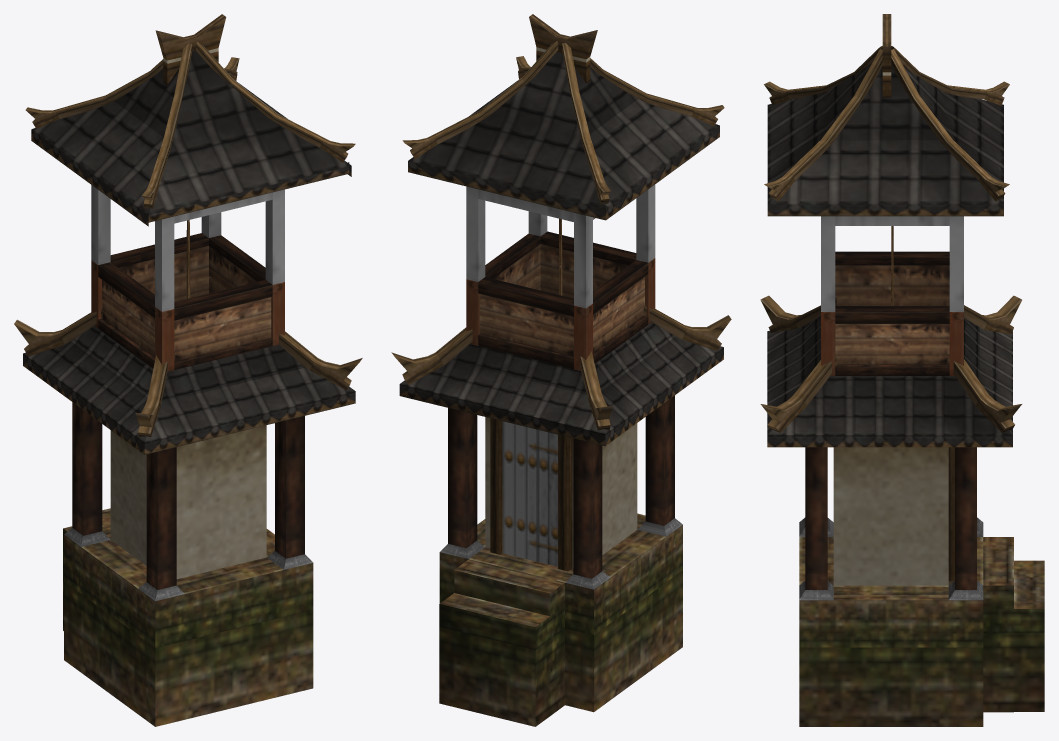
File: s_han_tower_small.glb
The picture shows the model from 3 angles, left to right: view 1: azimuth 30°, elevation 25°; view 2: azimuth 150°, elevation 25°; view 3: azimuth 270°, elevation 25°; orthographic projection. The views are drawn at different scales.
Visible parts, largest first — view 1: s_han_tower_small_part0; view 2: s_han_tower_small_part0; view 3: s_han_tower_small_part0.
Boxes of the visible parts, x1,y1,x2,y2 form: s_han_tower_small_part0: (14, 14, 362, 726); s_han_tower_small_part0: (391, 14, 731, 726); s_han_tower_small_part0: (760, 14, 1044, 726).
Size of the model in its own units: 1.86 by 5.1 by 2.
2 materials, 2 textured.
